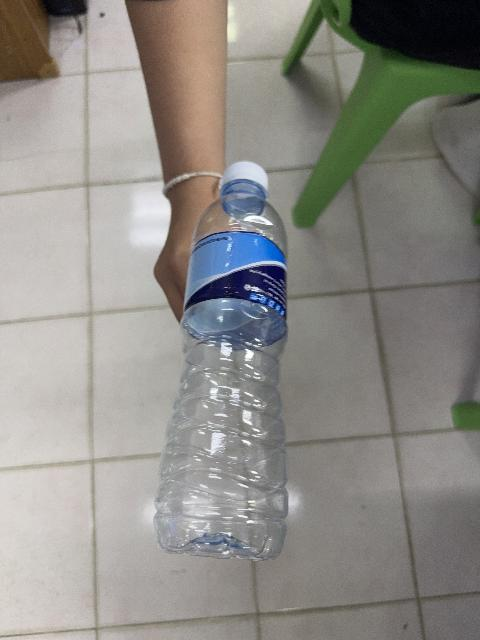bottle: (155, 162, 287, 559)
